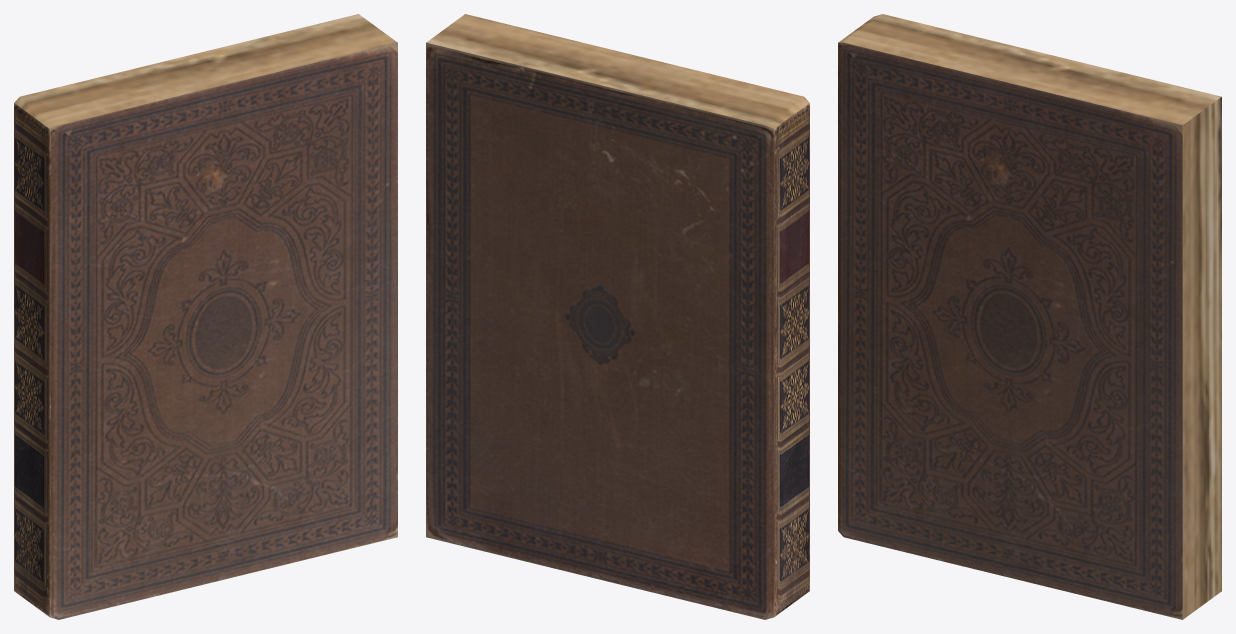
File: SM_Book_03.fbx
3 views of the same model, side by side, from view 1: azimuth 30°, elevation 25°; view 2: azimuth 150°, elevation 25°; view 3: azimuth 330°, elevation 25° (orthographic).
Visible parts, largest first — view 1: SM_Book_03; view 2: SM_Book_03; view 3: SM_Book_03.
Boxes of the visible parts, bbox=[...] form: SM_Book_03: bbox=[14, 14, 397, 619]; SM_Book_03: bbox=[426, 14, 809, 619]; SM_Book_03: bbox=[838, 14, 1221, 619].
Bounding box in the file's own units: 17 × 23 × 3.3.
1 material, 1 textured.
